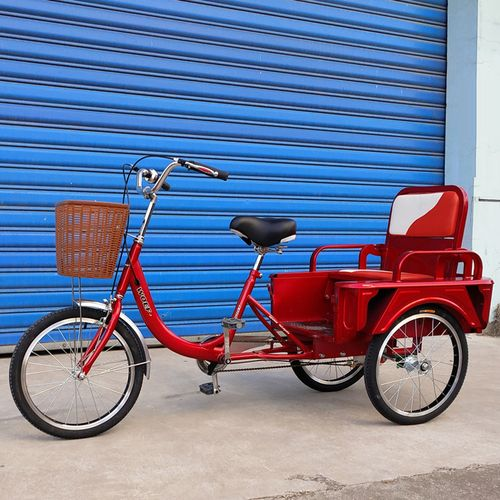empty: (11, 76, 494, 438)
